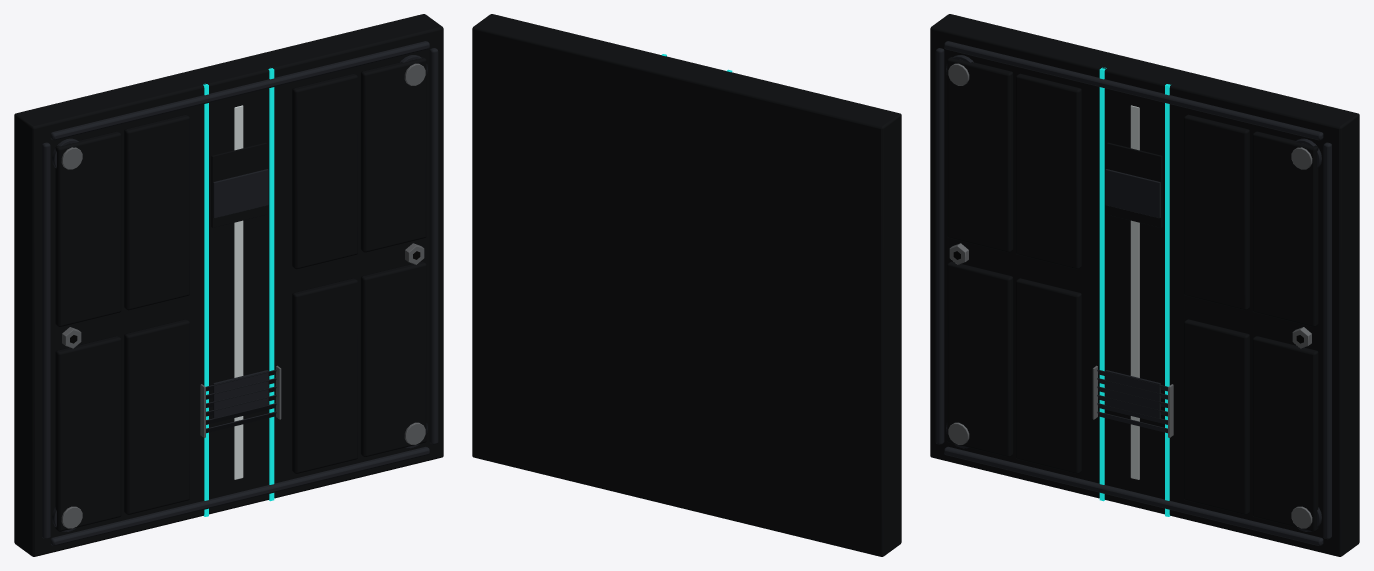
File: wall_panel.glb
3 renders of one model, left to right at view 1: azimuth 30°, elevation 25°; view 2: azimuth 150°, elevation 25°; view 3: azimuth 330°, elevation 25°, orthographic.
Parts seen in each view (by area): view 1: Panel, Bolts, Fiber, Inlay; view 2: Panel; view 3: Panel, Bolts, Fiber, Inlay.
Part boxes in pixels (<box>): Panel: <box>14,14,443,556</box>; Bolts: <box>52,55,427,531</box>; Fiber: <box>203,68,274,516</box>; Inlay: <box>234,105,243,479</box>; Panel: <box>472,14,901,556</box>; Panel: <box>930,14,1359,556</box>; Bolts: <box>946,55,1321,531</box>; Fiber: <box>1099,67,1170,516</box>; Inlay: <box>1130,105,1139,479</box>.
Bounding box in the file's own units: 1.2 × 1.2 × 0.132.
